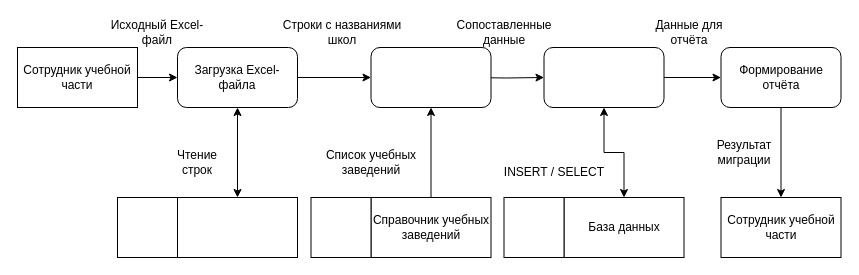
Image size: 859x275. Some labels were removed from this diagram. The shapes that lost their labels are listed below. From the top down, each one's centre as x and y in pixels, then its label:
point (430, 77): Сопоставление учебных заведений
point (603, 77): Сохранение данных
point (237, 227): Excel-файл
